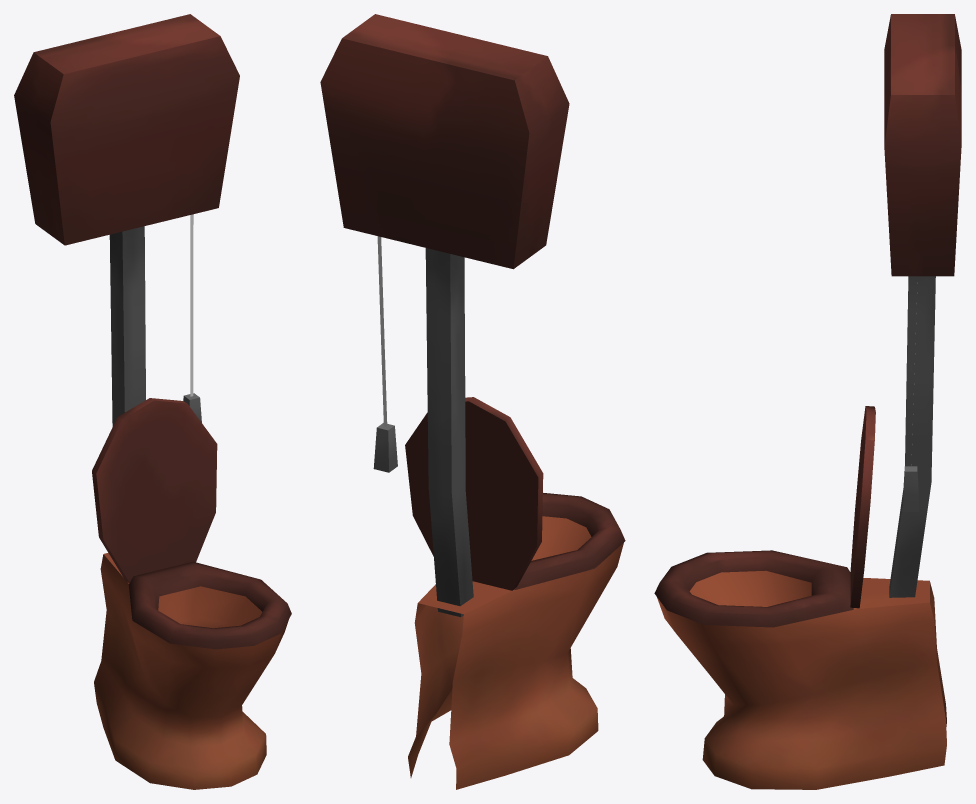
File: Primera_Slums_Props _Toilet.fbx
The picture shows the model from 3 angles, left to right: view 1: azimuth 30°, elevation 25°; view 2: azimuth 150°, elevation 25°; view 3: azimuth 270°, elevation 25°; orthographic projection. The views are drawn at different scales.
Visible parts, largest first — view 1: Primera_Slums_Props _Toilet; view 2: Primera_Slums_Props _Toilet; view 3: Primera_Slums_Props _Toilet.
Part boxes in pixels (left/top/right/bottom): Primera_Slums_Props _Toilet: left=14, top=14, right=291, bottom=789; Primera_Slums_Props _Toilet: left=320, top=14, right=625, bottom=789; Primera_Slums_Props _Toilet: left=654, top=14, right=961, bottom=789.
Bounding box in the file's own units: 197 × 663 × 262.
Materials: 1 (1 with a texture image).
